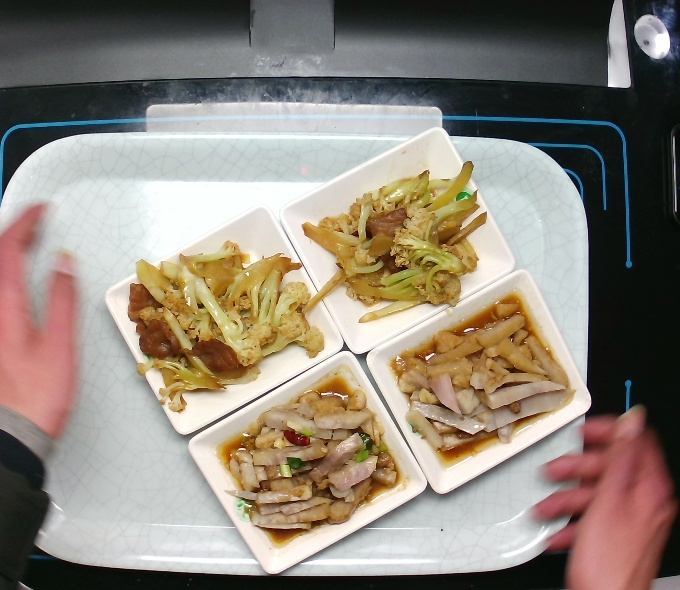wcq-QiuCaiChaoRou: (118, 237, 329, 415), (297, 152, 492, 326)
wcq-YuTou: (382, 288, 577, 463), (212, 375, 407, 550)
